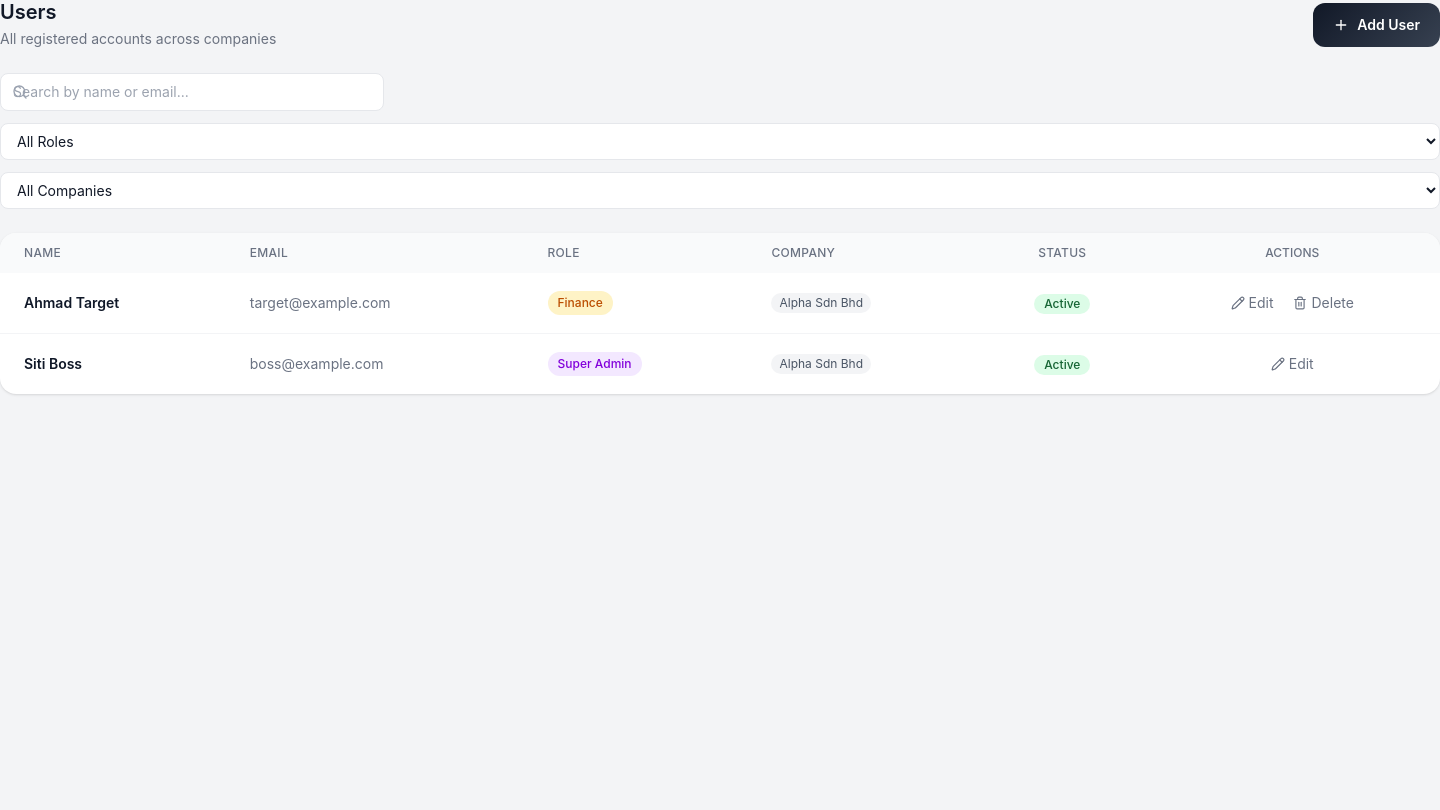
Scenario: UserManagement — create form › blocks submission when required fields are empty
This screenshot has width=1440, height=810.
Click the button "Add User" at (1377, 24), box [1313,2,1439,46]
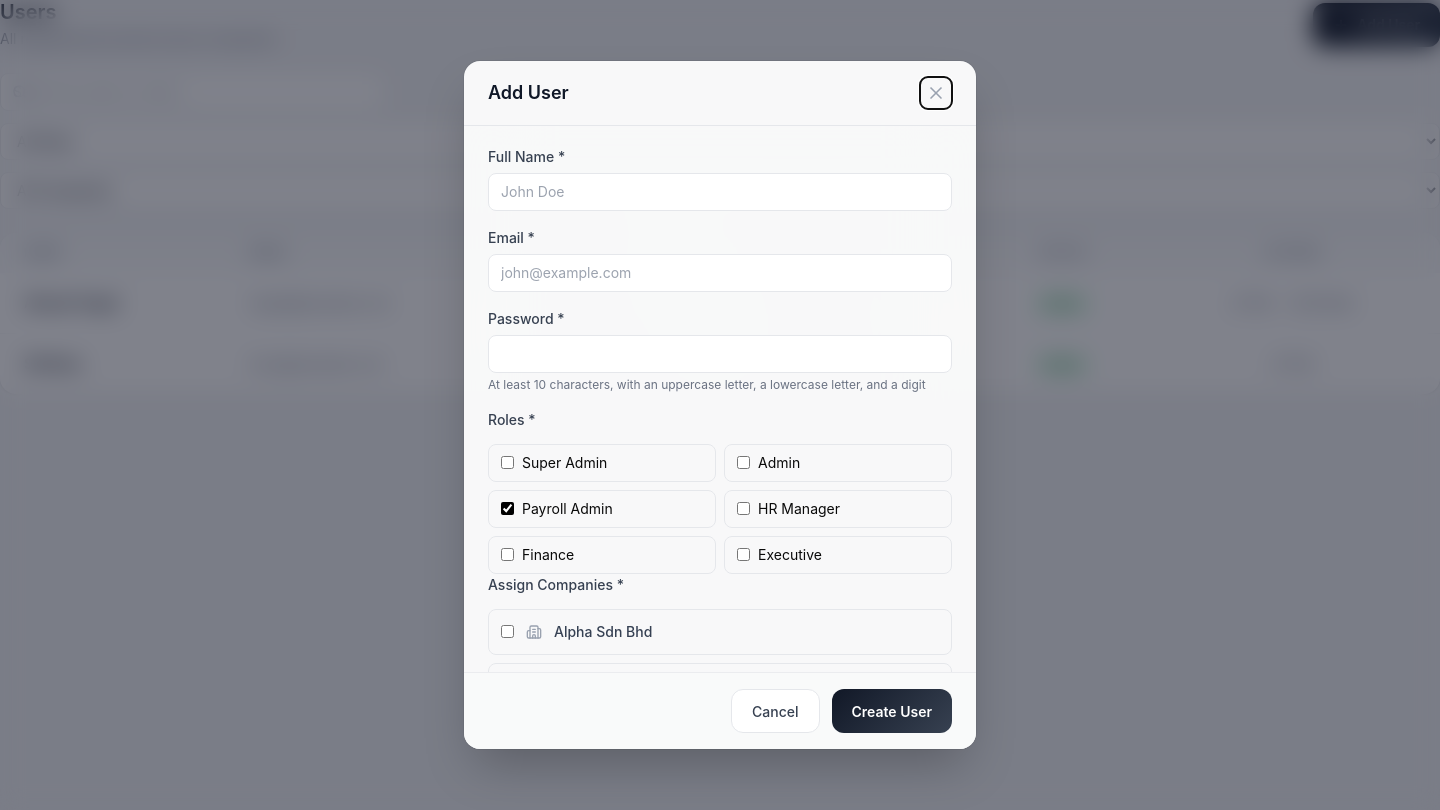
Click the button "Create User" at (892, 711), box [832,689,952,733]
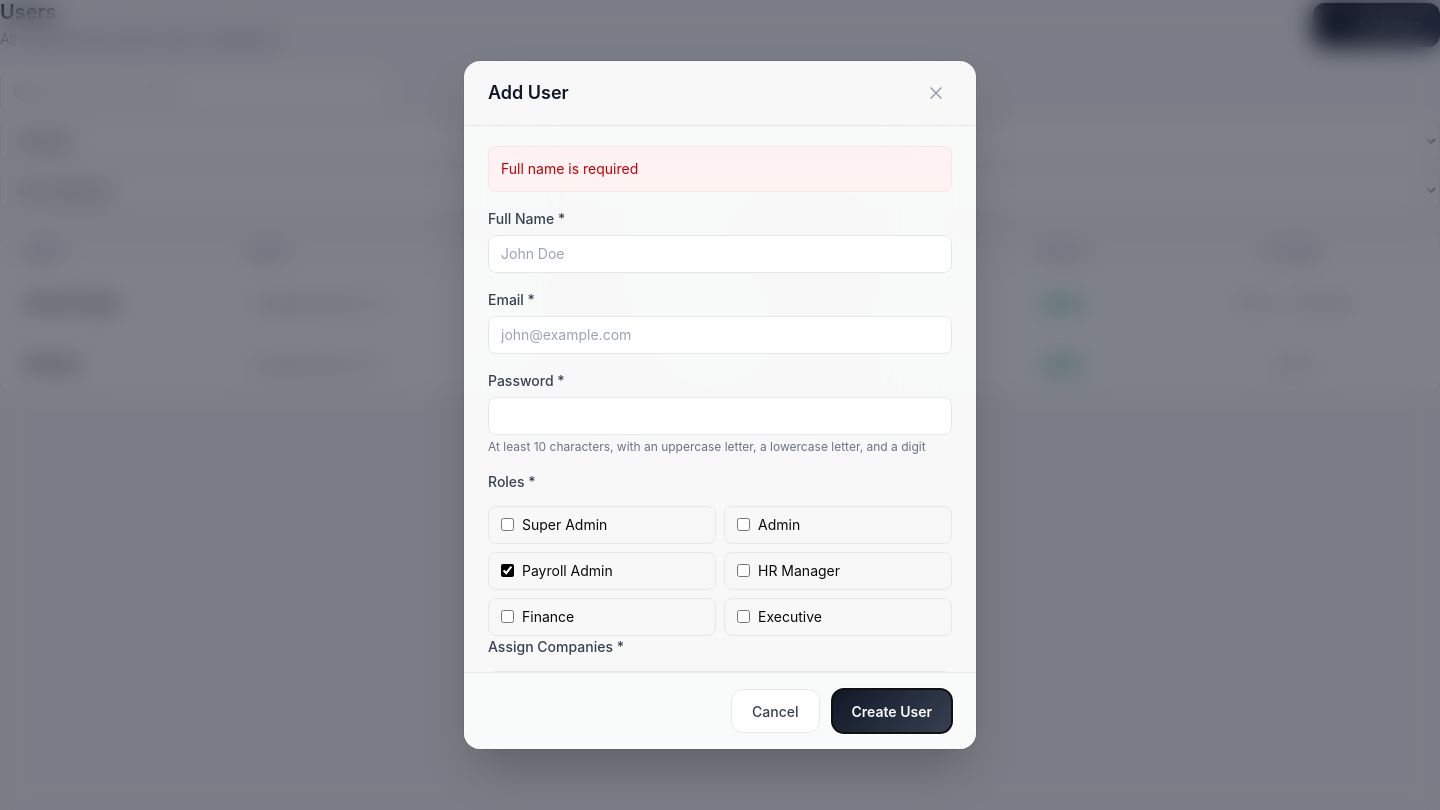
Now the message reads "Full name is required", box [501,160,638,177]
